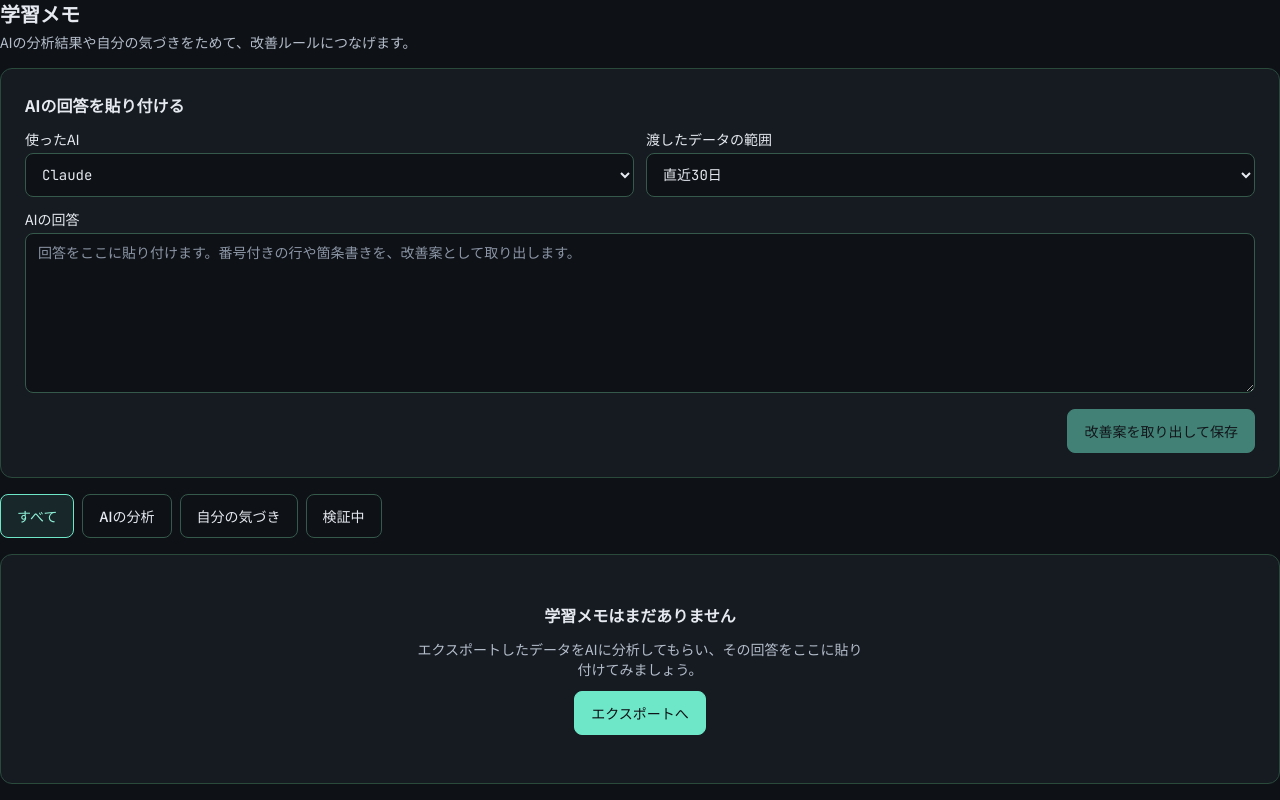
it: 学習メモ › 保存に失敗したら、貼り付けた内容は残して直し方を示す
The width and height of the screenshot is (1280, 800).
Type "回答です" into the text box labelled "AIの回答" at (640, 313), box top-left (25, 233), bottom-right (1255, 393)
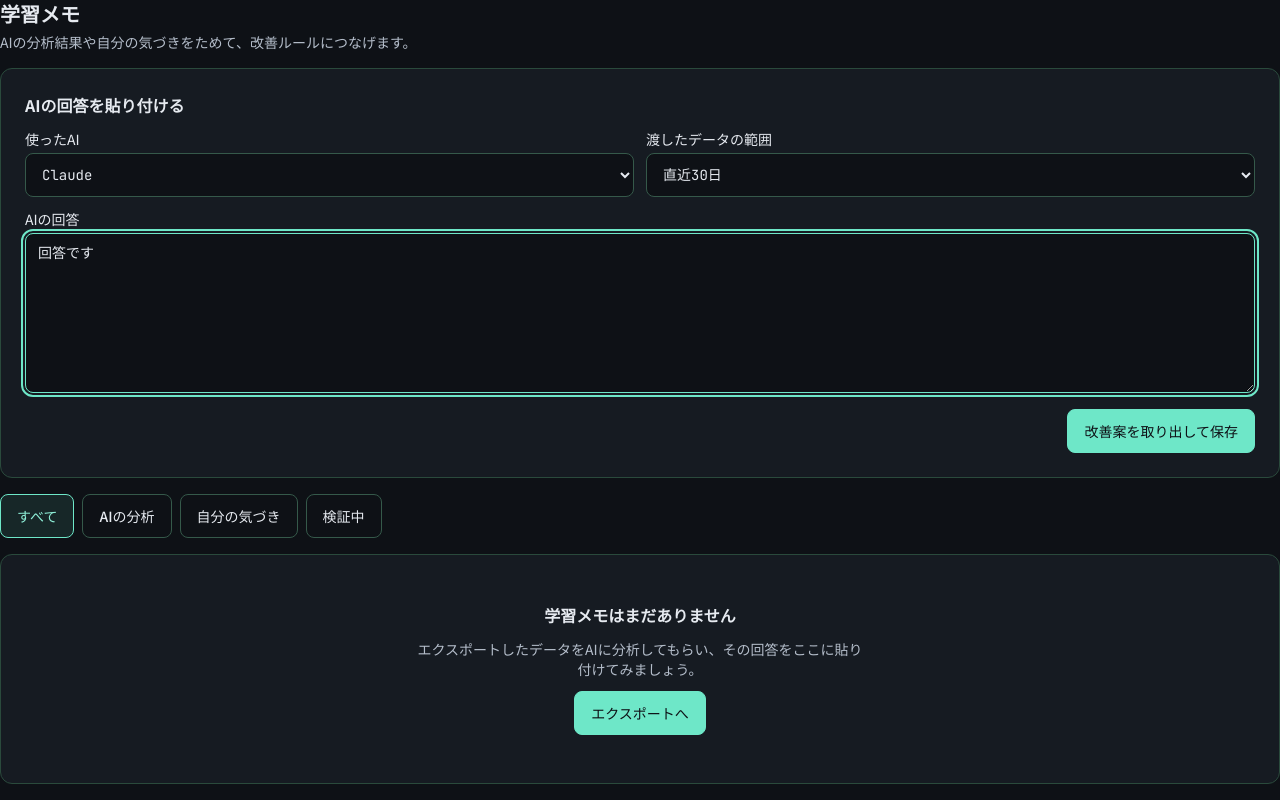
Click the button "改善案を取り出して保存" at (1161, 431), box top-left (1067, 409), bottom-right (1255, 453)
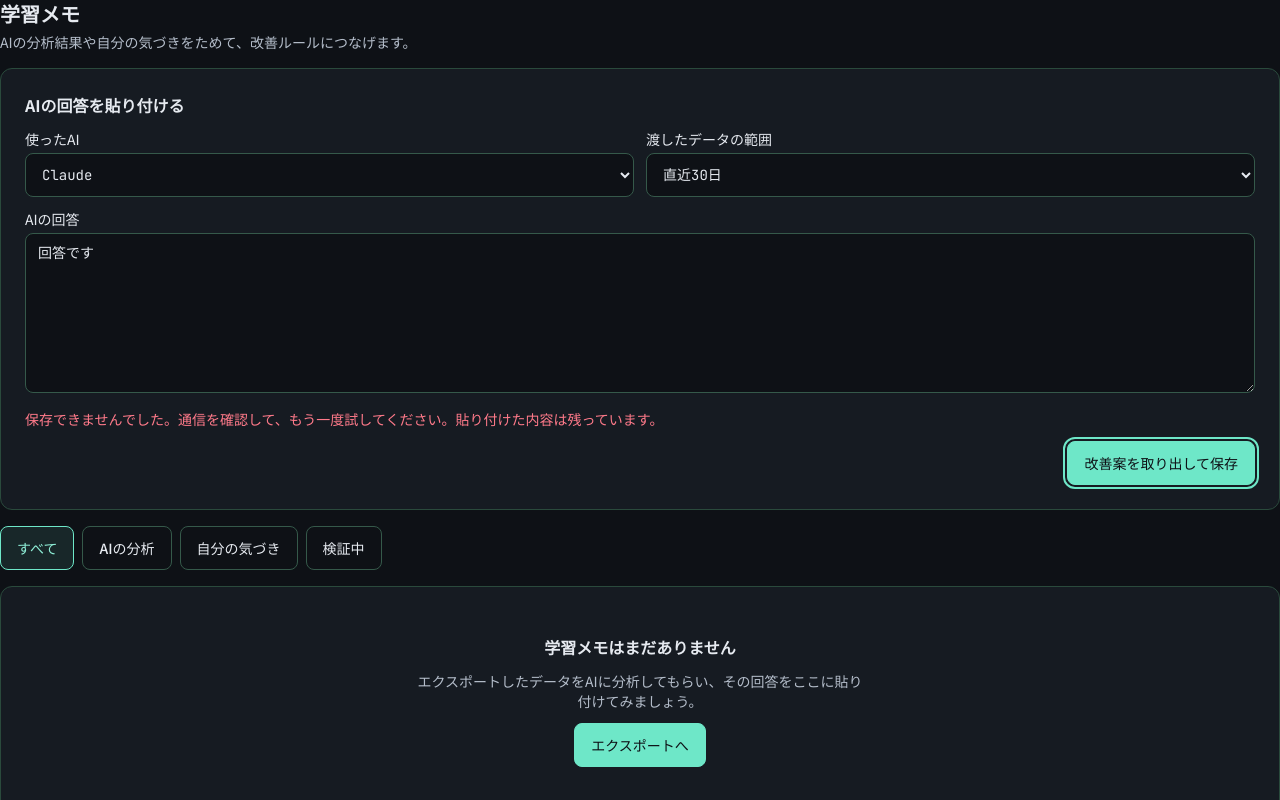
Now the message shows "貼り付けた内容は残っています", box top-left (25, 409), bottom-right (663, 429)
